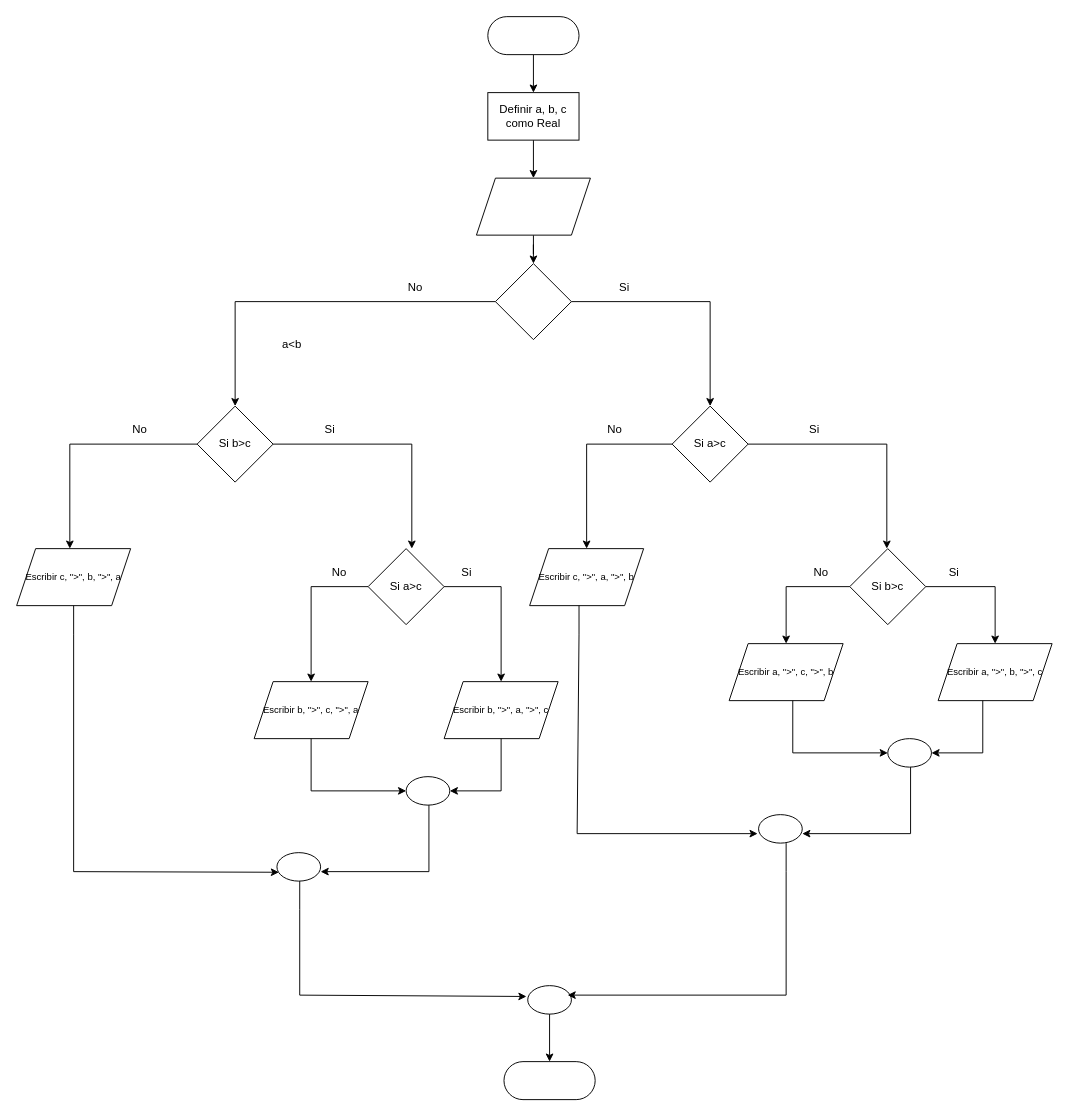
Some shapes in this 1069 by 1116 pixel diagram are drawn without their labels. The shapes that lost their labels are listed below. From the top down, each one's centre as x and y in pixels, then its label:
point (533, 35): Inicio
point (532, 206): Leer A Leer B Leer C
point (532, 301): Si a>b
point (549, 1080): Fin
